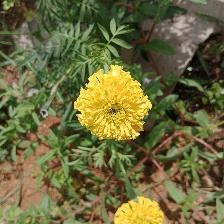marigold: (75, 63, 152, 147)
